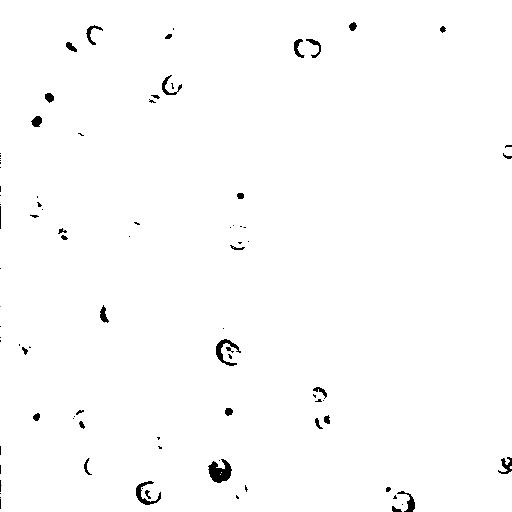micro-algae: (56, 380, 153, 476), (282, 425, 367, 502), (423, 0, 491, 64), (85, 74, 150, 136), (48, 179, 102, 230), (373, 1, 454, 35), (51, 303, 98, 350), (204, 36, 247, 84), (468, 96, 512, 142), (142, 382, 188, 425), (126, 403, 170, 444), (244, 349, 283, 389), (17, 100, 54, 139), (69, 407, 106, 441), (153, 11, 186, 49), (425, 7, 459, 43), (20, 401, 51, 437), (1, 475, 29, 512), (212, 393, 246, 423), (223, 222, 254, 253), (26, 435, 58, 464), (72, 112, 103, 141), (19, 194, 51, 222), (475, 31, 504, 61), (493, 420, 512, 465), (293, 35, 324, 61), (338, 12, 365, 41), (215, 338, 242, 367), (135, 480, 164, 507), (208, 456, 234, 486), (98, 296, 123, 324), (40, 85, 66, 110), (160, 73, 185, 98), (58, 33, 82, 59), (485, 231, 510, 255), (14, 338, 37, 363), (390, 490, 417, 511), (377, 478, 401, 501), (116, 221, 146, 239), (85, 24, 108, 47), (260, 93, 283, 114), (84, 455, 105, 478), (54, 225, 76, 245), (312, 410, 333, 430), (309, 385, 328, 404), (235, 479, 250, 503), (495, 455, 512, 476), (154, 433, 172, 451), (232, 189, 248, 203), (501, 142, 512, 161)
